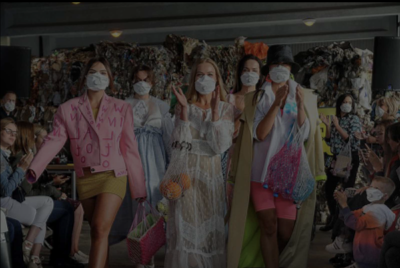with_mask: (193, 70, 216, 95), (86, 67, 109, 92), (268, 61, 291, 84), (239, 66, 260, 87), (133, 75, 152, 97), (365, 184, 383, 204), (3, 98, 17, 112), (339, 100, 352, 115), (375, 103, 383, 118)
without_mask: (2, 127, 17, 147), (386, 135, 395, 154), (373, 129, 383, 146)
